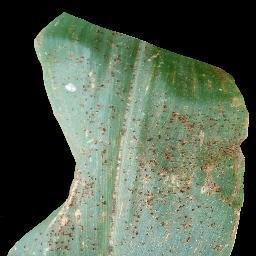Corn_Common_Rust: (8, 18, 256, 255)
